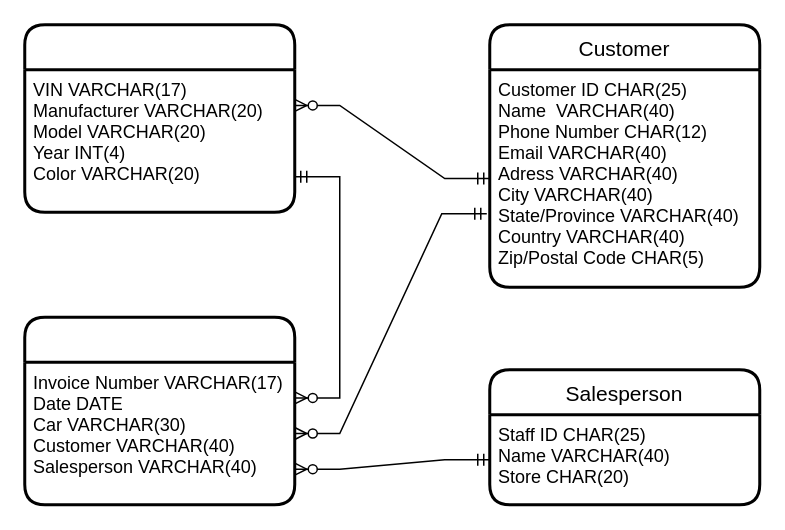
The diagram is 785 pixels wide and 530 high, and some of its shapes have lost their labels. Each missing label, with the box of its shape:
Cars: (22, 22, 296, 213)
Invoices: (22, 315, 296, 506)
